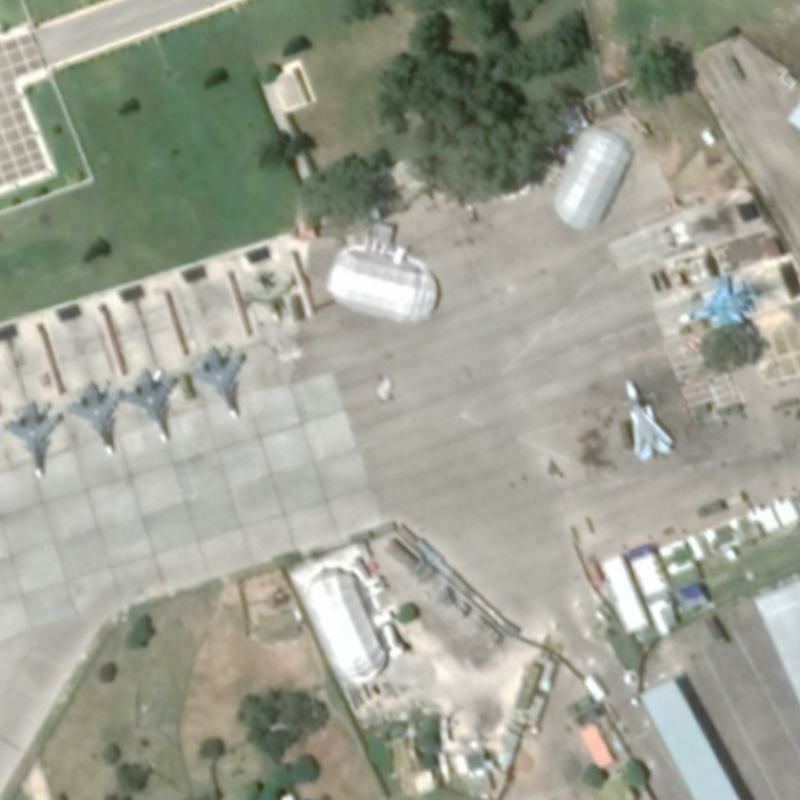A19: (676, 271, 762, 334), (2, 399, 62, 481), (65, 377, 124, 458), (190, 343, 244, 422), (123, 367, 177, 444)
A20: (622, 377, 675, 463)
